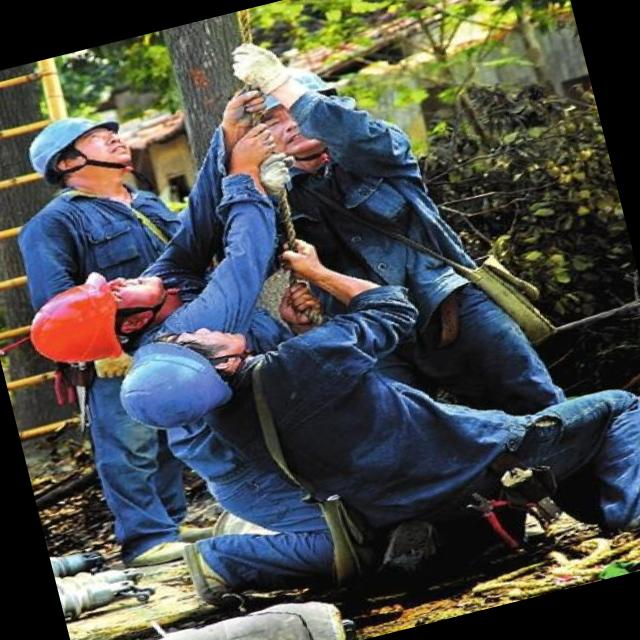helmet: (102, 310, 282, 438), (5, 257, 198, 376), (210, 44, 374, 174), (12, 97, 148, 201)
